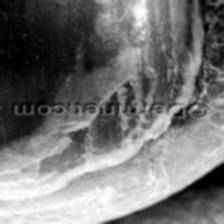Toxin: (0, 0, 204, 204)
